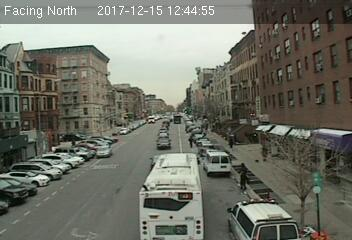bus: (137, 153, 204, 240)
car: (95, 146, 111, 157), (156, 137, 172, 148), (158, 129, 169, 137)
pedestrian: (238, 163, 249, 192)
police: (224, 197, 306, 240)
truck: (205, 151, 231, 176)
